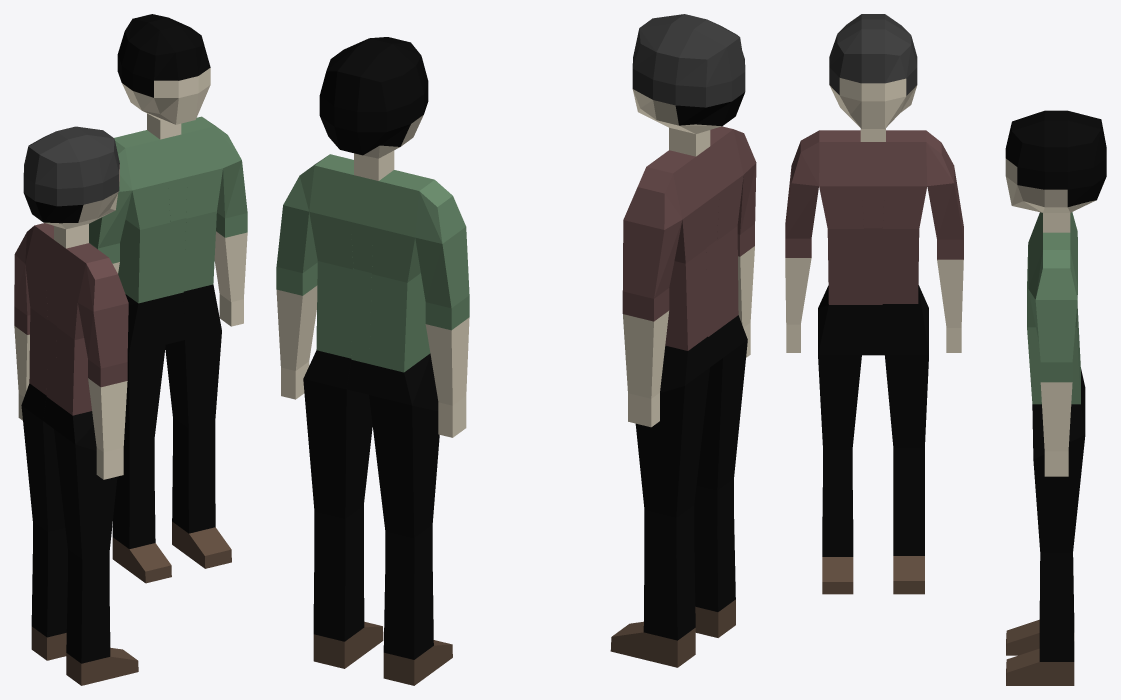
The model's file is Two Guys 1.fbx.
3 renders of one model, left to right at view 1: azimuth 30°, elevation 25°; view 2: azimuth 150°, elevation 25°; view 3: azimuth 270°, elevation 25°, orthographic. The views are drawn at different scales.
Visible parts, largest first — view 1: NPC, pasted__NPC; view 2: NPC, pasted__NPC; view 3: pasted__NPC, NPC.
Boxes of the visible parts, x1,y1,x2,y2 form: NPC: (89,14,247,583); pasted__NPC: (14,126,138,685); NPC: (276,37,469,685); pasted__NPC: (610,14,756,667); pasted__NPC: (785,14,963,594); NPC: (1005,110,1106,685).
Size of the model in its own units: 2.54 by 4.3 by 2.29.
